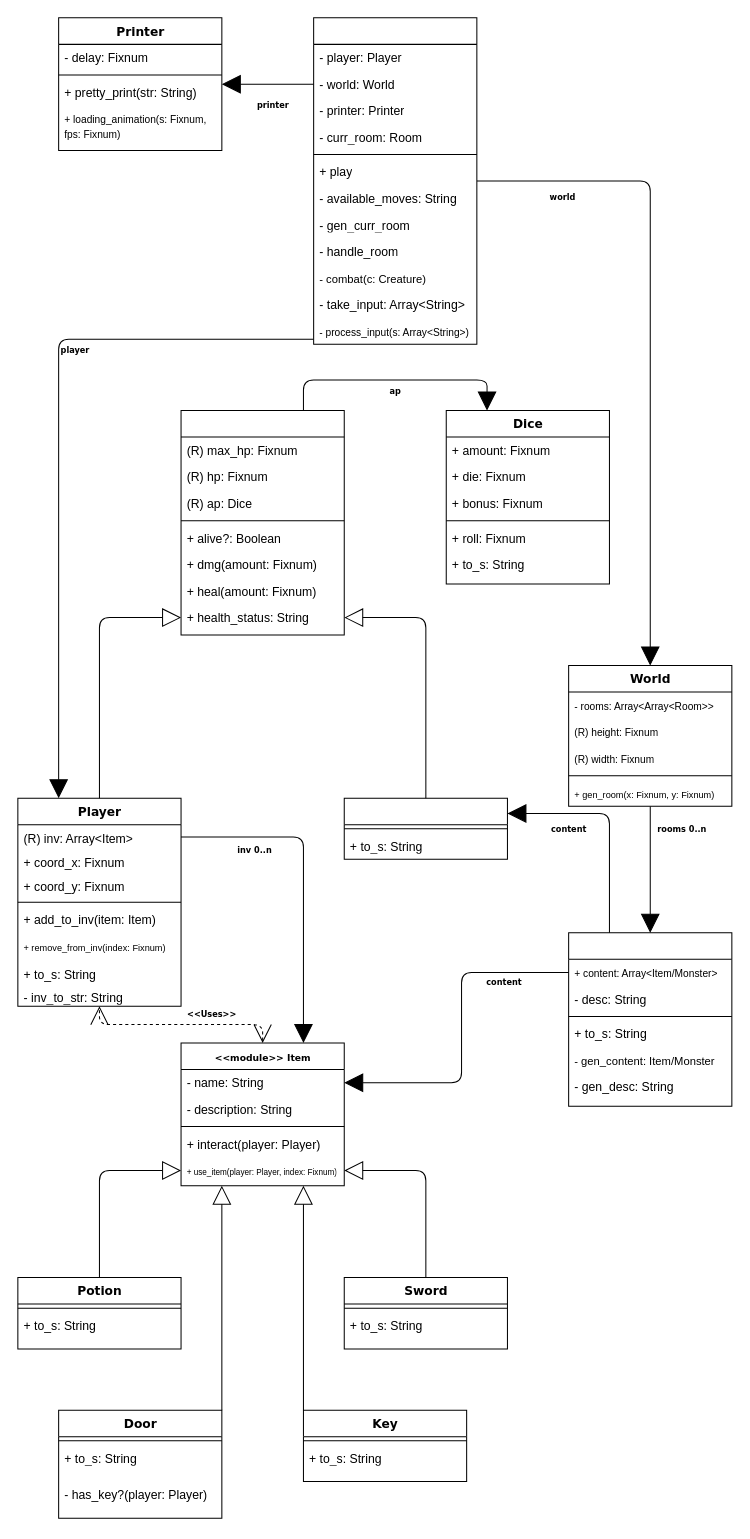
Image size: 750x1539. Some labels were removed from this diagram. The box of each missing label's shape, as (x1, y1, x2, y2) in pixels:
<<module>> Creature: (180, 410, 344, 635)
Game: (313, 17, 477, 344)
Monster: (343, 797, 507, 859)
Room: (568, 932, 732, 1106)
